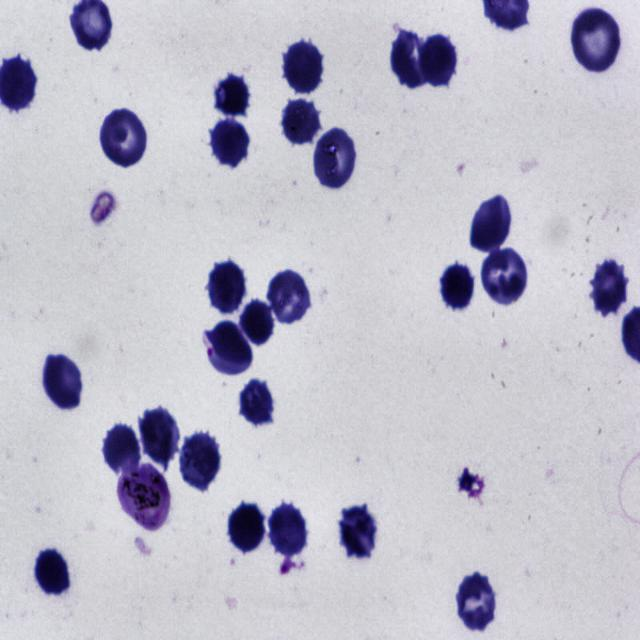gametocyte: (118, 464, 170, 530)
red blood cell: (568, 7, 622, 74), (100, 106, 150, 169), (314, 124, 358, 190), (202, 319, 254, 373), (481, 246, 529, 304), (266, 269, 312, 327), (40, 352, 84, 411), (179, 434, 222, 491), (456, 573, 498, 631), (390, 26, 428, 88), (338, 504, 380, 560), (139, 407, 181, 463), (470, 194, 511, 251), (268, 502, 308, 559), (206, 260, 248, 314), (590, 258, 630, 314), (283, 39, 324, 93), (419, 34, 457, 90), (103, 422, 142, 474), (239, 378, 277, 429), (34, 549, 72, 600), (228, 502, 264, 553), (239, 298, 276, 346), (210, 120, 248, 165), (210, 73, 249, 115), (442, 264, 476, 310), (281, 104, 318, 144)
